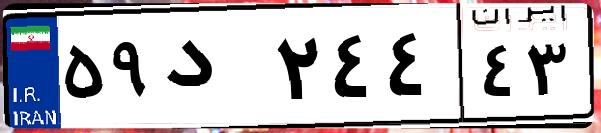2: (270, 28, 330, 110)
3: (525, 38, 570, 115)
4: (385, 28, 445, 110), (330, 28, 385, 110), (475, 38, 525, 113)
5: (57, 26, 110, 100)
9: (110, 28, 158, 98)
د: (158, 20, 270, 120)
